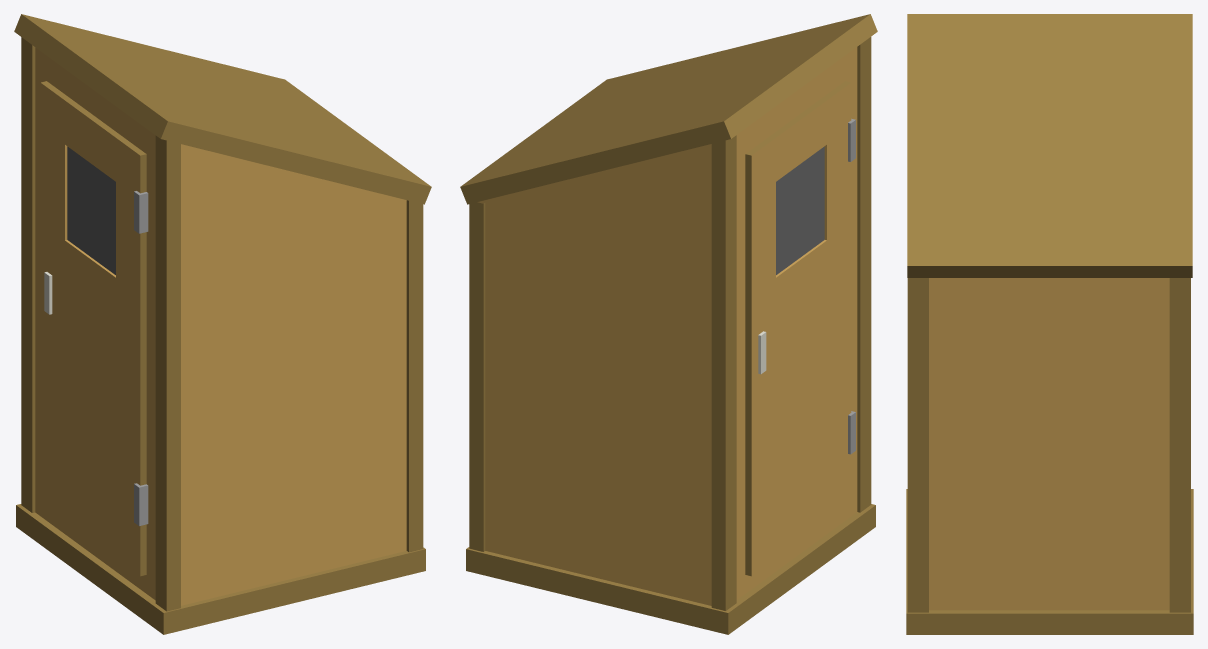
3 views of the same model, side by side, from view 1: azimuth 30°, elevation 25°; view 2: azimuth 150°, elevation 25°; view 3: azimuth 270°, elevation 25° (orthographic). The views are drawn at different scales.
Visible parts, largest first — view 1: Cube_1; view 2: Cube_1; view 3: Cube_1.
Boxes of the visible parts, x1,y1,x2,y2 form: Cube_1: (14, 14, 431, 634); Cube_1: (460, 14, 877, 634); Cube_1: (906, 14, 1193, 634).
Bounding box in the file's own units: 139 × 251 × 131.
